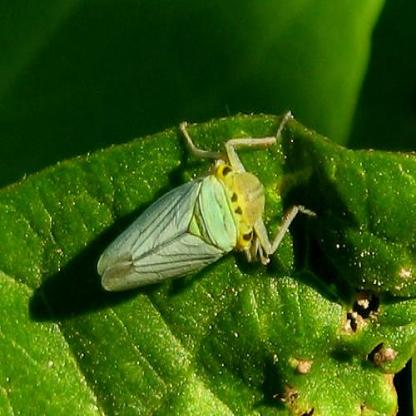Green-Leafhopper: (95, 109, 317, 298)
